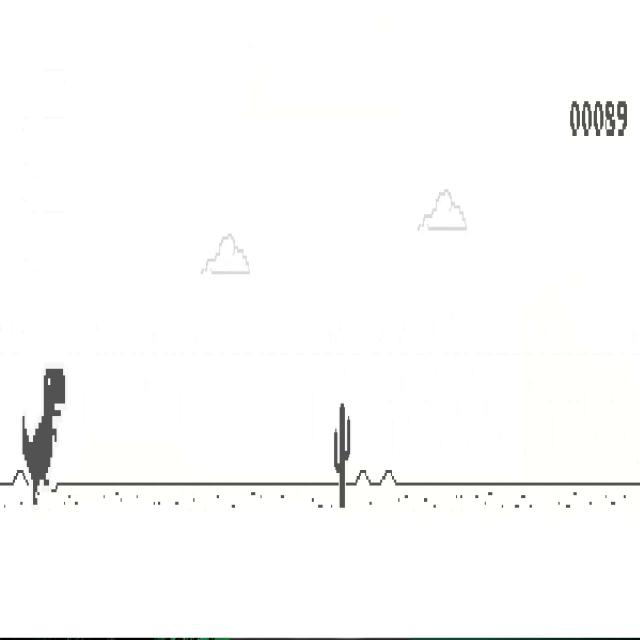cacto: (334, 402, 352, 509)
dino: (21, 368, 66, 506)
